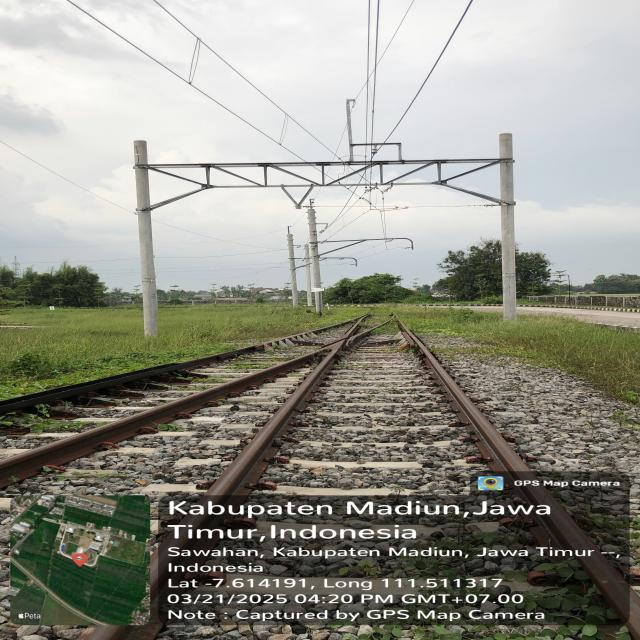rail-detection: (400, 324, 640, 640), (0, 351, 318, 486), (0, 321, 350, 414), (206, 340, 345, 495), (310, 341, 344, 380), (248, 428, 272, 452)
